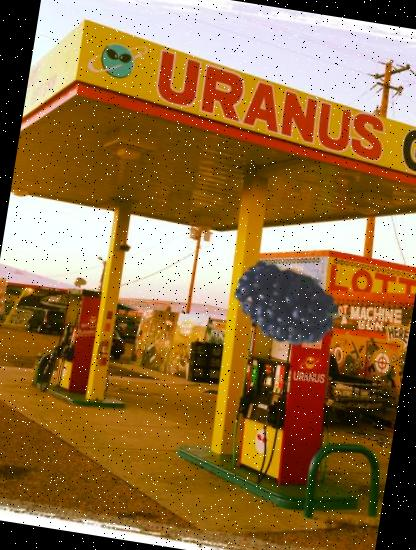Mulberry: (222, 243, 359, 380)
